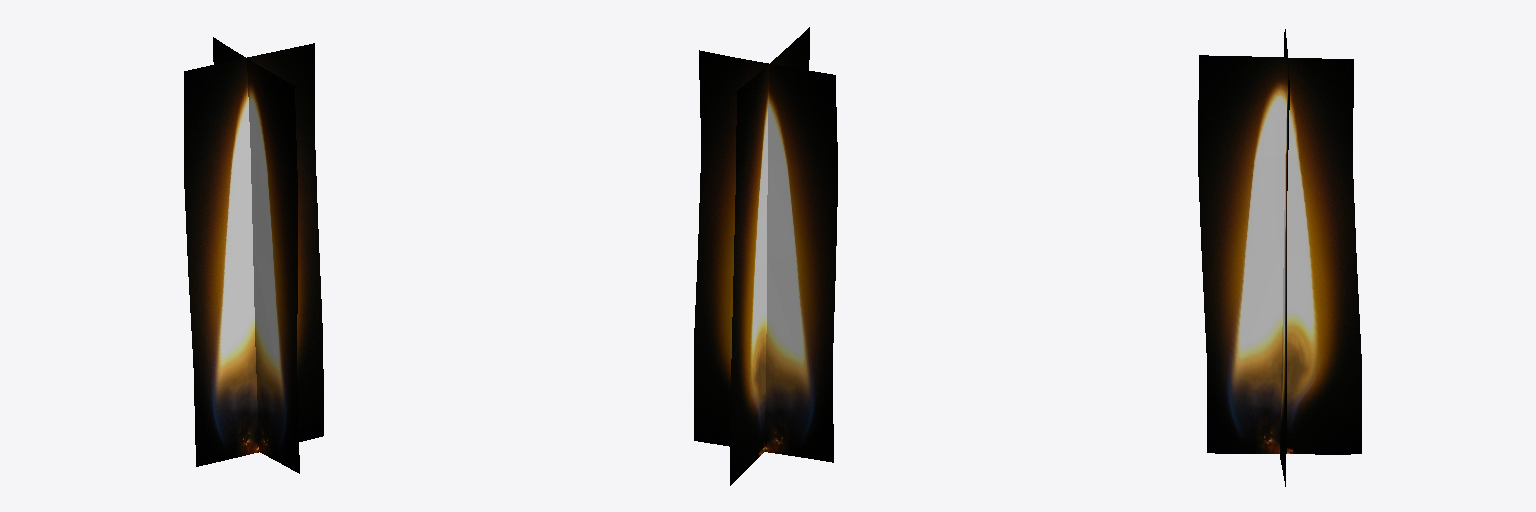
3 views of the same model, side by side, from view 1: azimuth 30°, elevation 25°; view 2: azimuth 150°, elevation 25°; view 3: azimuth 270°, elevation 25° (orthographic).
Visible parts, largest first — view 1: flame; view 2: flame; view 3: flame.
Boxes of the visible parts, x1,y1,x2,y2 form: flame: [184, 37, 323, 473]; flame: [694, 27, 837, 485]; flame: [1198, 29, 1361, 486].
Size of the model in its own units: 1.33 by 3.56 by 1.33.
Materials: 1 (1 with a texture image).